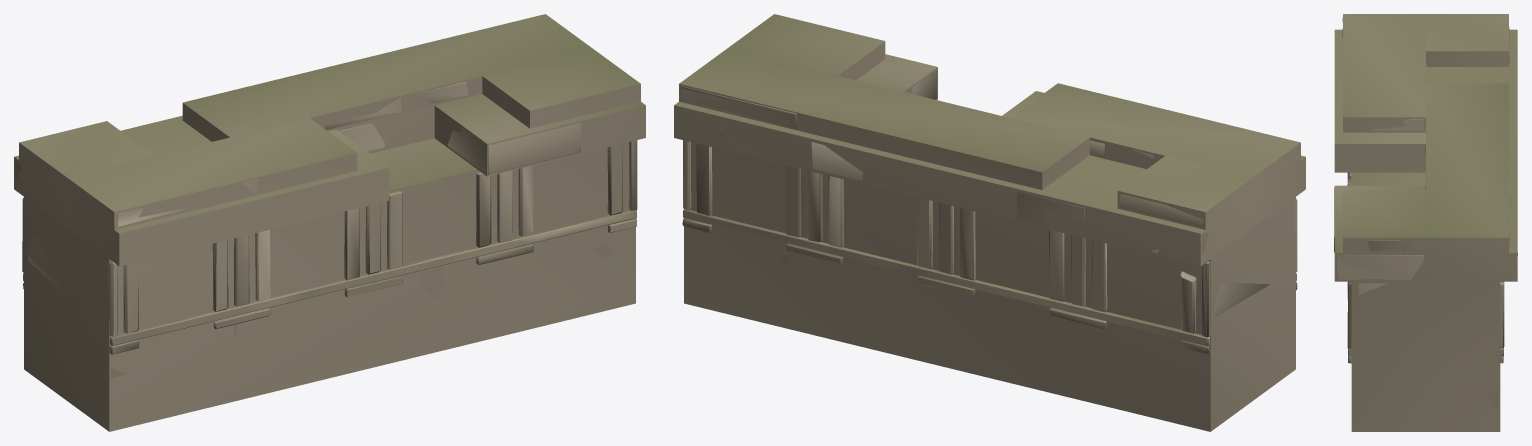
File: lintel.glb
3 renders of one model, left to right at view 1: azimuth 30°, elevation 25°; view 2: azimuth 150°, elevation 25°; view 3: azimuth 270°, elevation 25°, orthographic. The views are drawn at different scales.
Visible parts, largest first — view 1: lintel_far, lintel; view 2: lintel_far, lintel; view 3: lintel_far, lintel.
Part boxes in pixels (x1=…): lintel_far: x1=14, y1=14, x2=645, y2=431; lintel: x1=15, y1=81, x2=637, y2=377; lintel_far: x1=674, y1=14, x2=1305, y2=431; lintel: x1=681, y1=69, x2=1297, y2=353; lintel_far: x1=1334, y1=14, x2=1517, y2=431; lintel: x1=1334, y1=18, x2=1517, y2=409.
Size of the model in its own units: 18.52 by 7.5 by 6.43.
